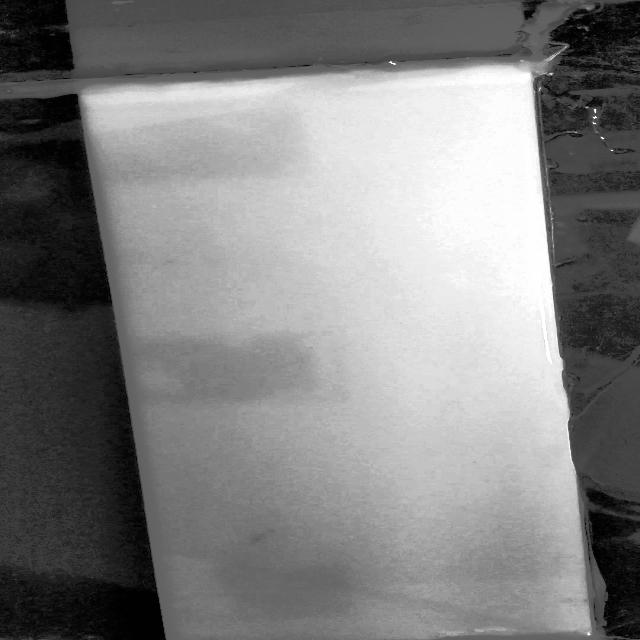shrimp: (236, 526, 276, 550)
